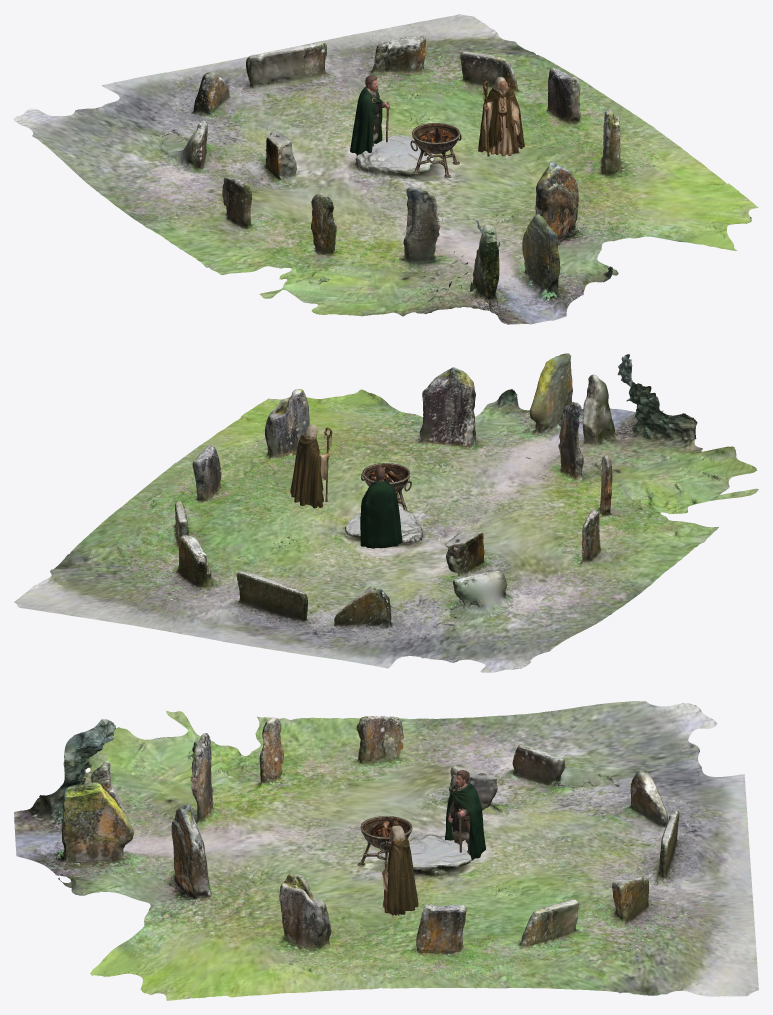
File: GStest3.glb
3 renders of one model, top to bottom at view 1: azimuth 30°, elevation 25°; view 2: azimuth 150°, elevation 25°; view 3: azimuth 270°, elevation 25°, orthographic. The views are drawn at different scales.
Parts seen in each view (by area): view 1: Mesh_0, Mesh1.001, Mesh1.0, Mesh1.002; view 2: Mesh_0, Mesh1.0, Mesh1.001, Mesh1.002; view 3: Mesh_0, Mesh1.0, Mesh1.001, Mesh1.002.
Part boxes in pixels (x1,y1,x2,y2): Mesh_0: [14, 14, 758, 324]; Mesh1.001: [478, 76, 524, 156]; Mesh1.0: [350, 75, 389, 155]; Mesh1.002: [410, 123, 461, 178]; Mesh_0: [14, 353, 758, 672]; Mesh1.0: [360, 466, 402, 548]; Mesh1.001: [290, 424, 332, 508]; Mesh1.002: [361, 463, 411, 511]; Mesh_0: [14, 701, 758, 1000]; Mesh1.0: [445, 770, 485, 860]; Mesh1.001: [382, 817, 418, 915]; Mesh1.002: [357, 816, 412, 867].
Bounding box in the file's own units: 13.12 × 2.56 × 15.6.
4 materials, 4 textured.
